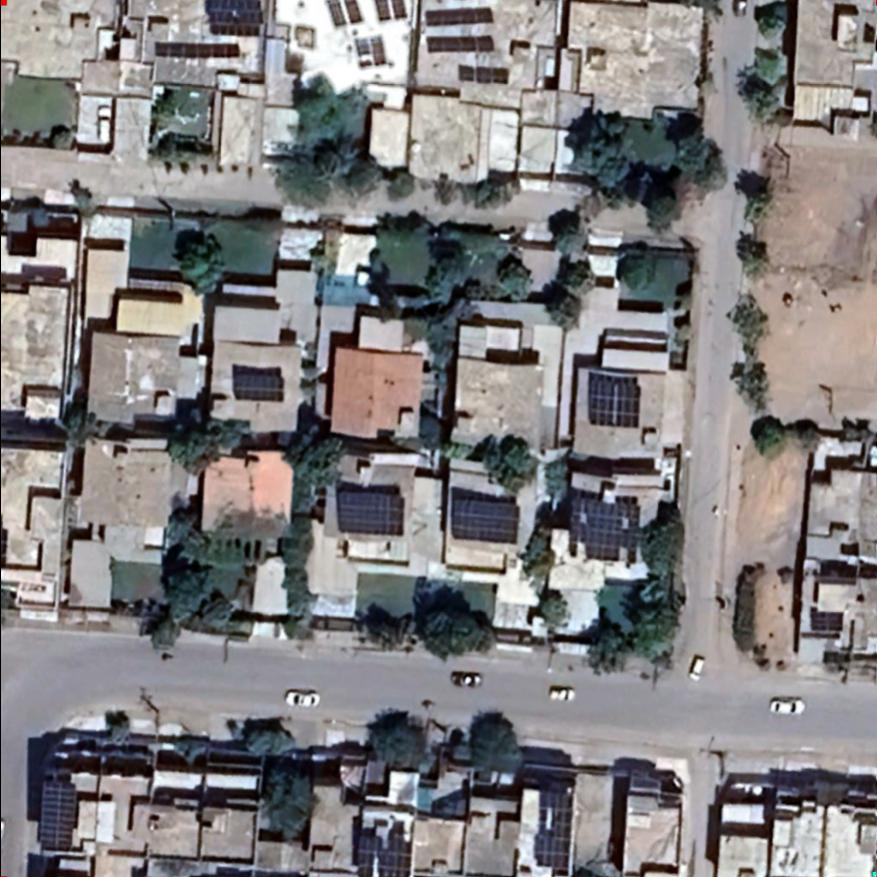Solarpanel: (566, 488, 639, 572), (531, 785, 576, 876), (331, 486, 405, 540), (446, 494, 518, 546), (354, 815, 415, 876), (586, 367, 639, 432), (37, 779, 78, 853), (201, 1, 265, 37), (227, 365, 287, 401), (421, 5, 498, 30), (149, 41, 240, 59), (418, 35, 498, 55), (452, 63, 511, 89), (323, 1, 365, 31), (353, 35, 383, 68), (371, 0, 411, 22)
